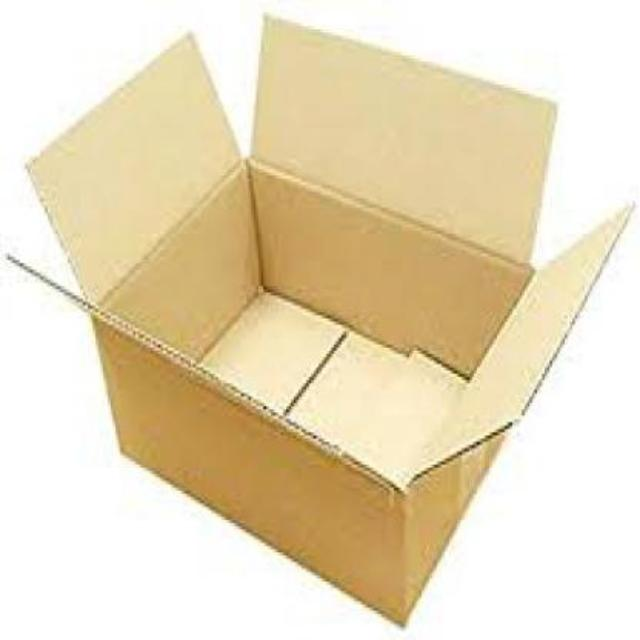cardboard_box: (46, 30, 630, 626)
